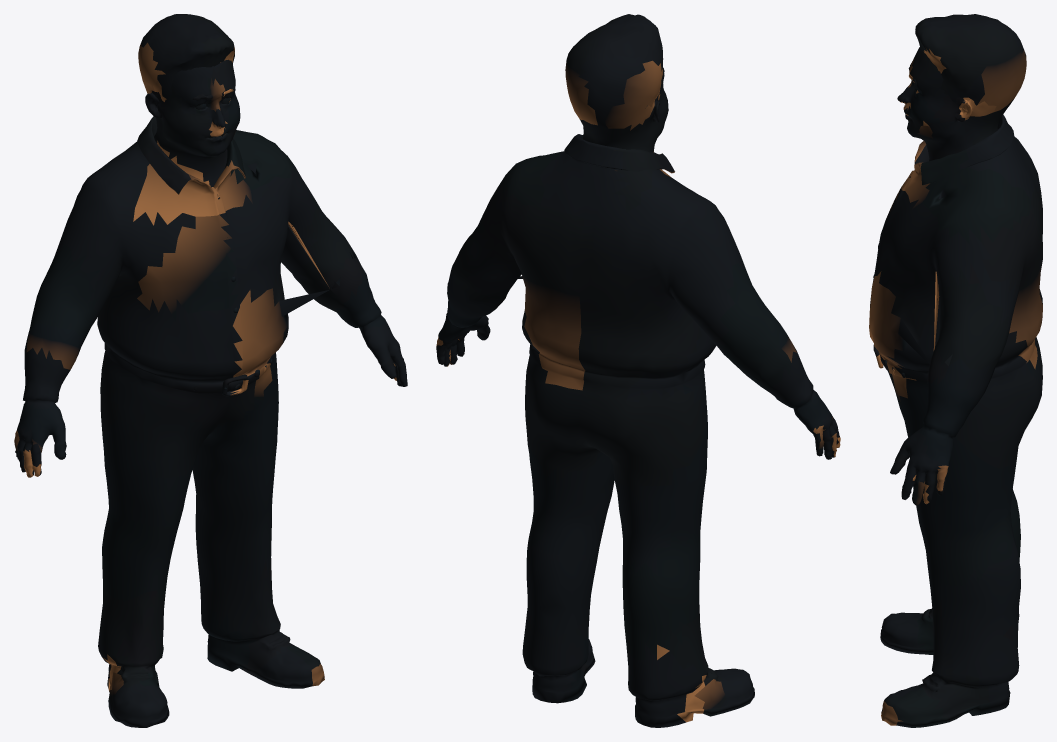
Rendered from AbdullahEkinci_MeshyPro_Unrigged.fbx.
3 renders of one model, left to right at view 1: azimuth 30°, elevation 25°; view 2: azimuth 150°, elevation 25°; view 3: azimuth 270°, elevation 25°, orthographic. The views are drawn at different scales.
Parts seen in each view (by area): view 1: AbdullahEkinci; view 2: AbdullahEkinci; view 3: AbdullahEkinci.
Boxes of the visible parts, x1,y1,x2,y2 form: AbdullahEkinci: (14,14,407,727); AbdullahEkinci: (436,14,840,727); AbdullahEkinci: (869,14,1042,727).
Bounding box in the file's own units: 1.1 × 1.8 × 0.4316.
1 material, 1 textured.
